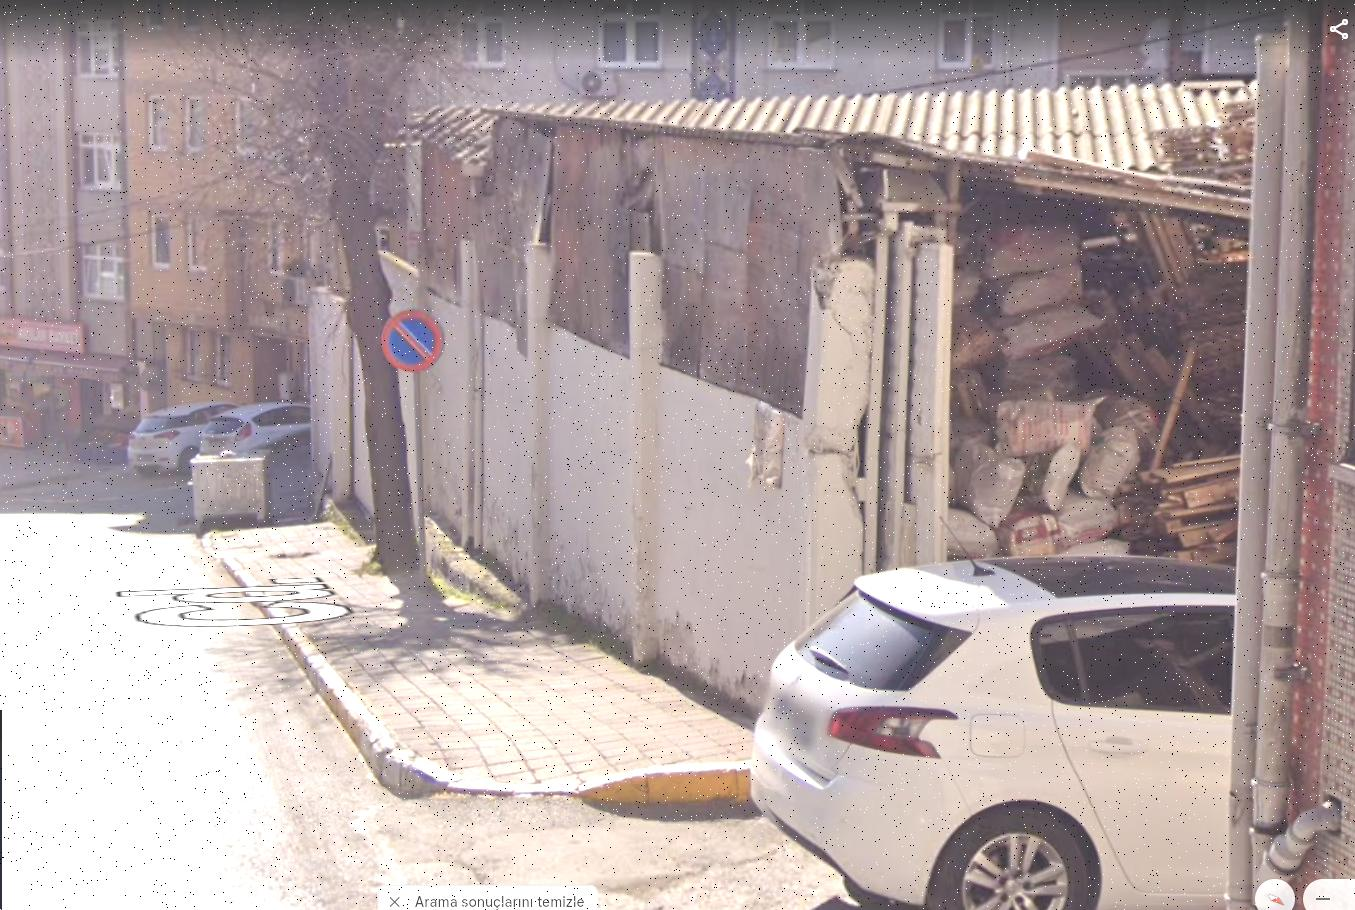nopark: (385, 309, 443, 376)
